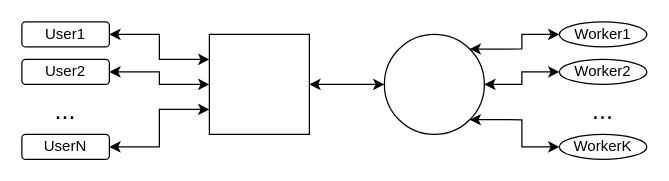
Image size: 669x181. Some labels were removed from this diagram. The shapes that lost their labels are listed below. From the top down, each one's box as (x1, y1, x2, y2) in pixels, then its label:
(208, 33, 309, 134): Decomposer
(383, 33, 484, 134): Broker
